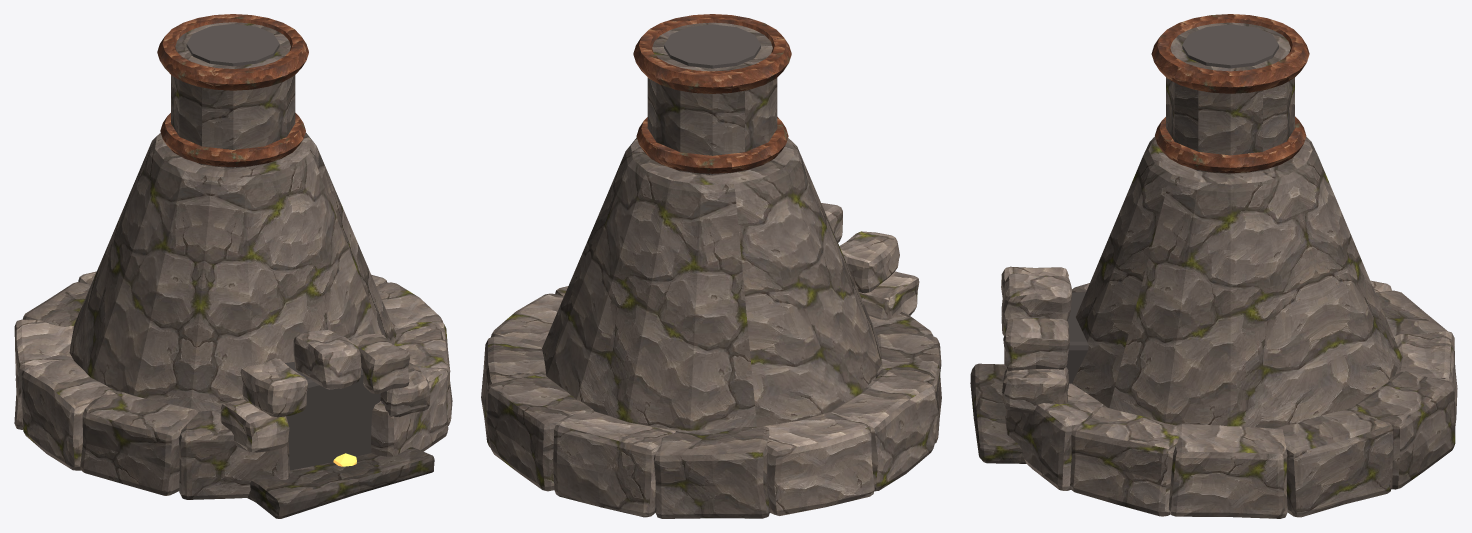
Rendered from smelter.glb.
3 renders of one model, left to right at view 1: azimuth 30°, elevation 25°; view 2: azimuth 150°, elevation 25°; view 3: azimuth 270°, elevation 25°, orthographic. The views are drawn at different scales.
Parts seen in each view (by area): view 1: model; view 2: model; view 3: model.
Part boxes in pixels (x1,y1,x2,y2): model: (14, 14, 452, 518); model: (481, 14, 941, 518); model: (970, 14, 1457, 518).
Size of the model in its own units: 1.42 by 1.31 by 1.51.
12 materials, 5 textured.
